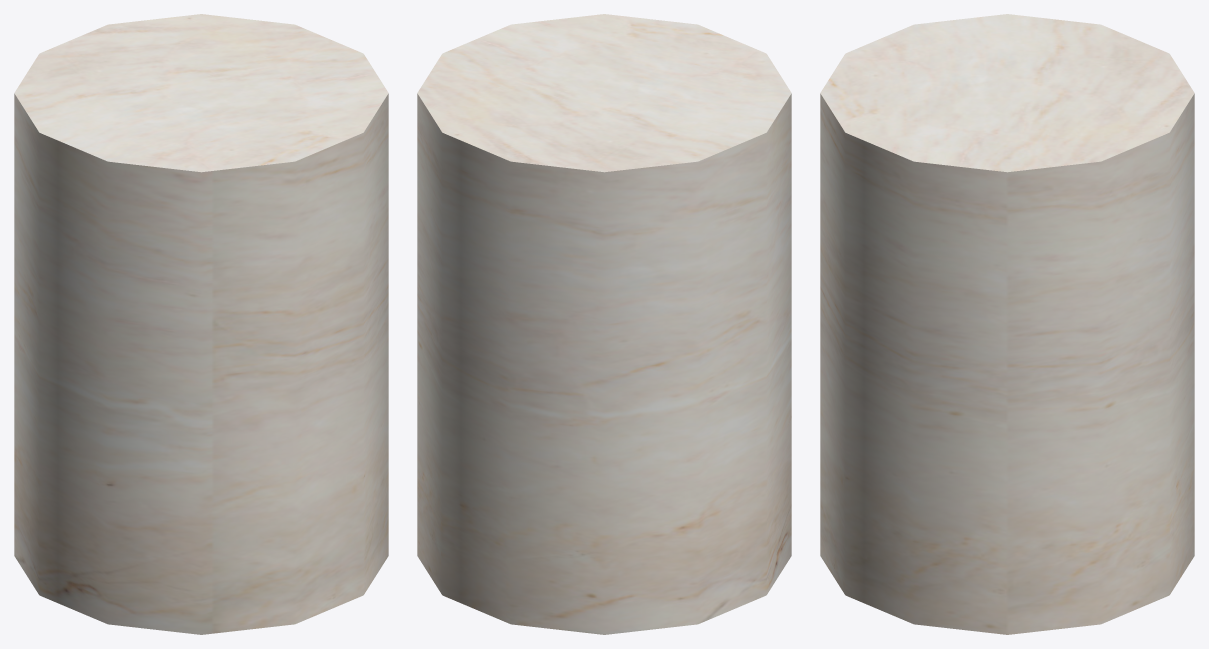
File: PIL0110002.FBX
3 renders of one model, left to right at view 1: azimuth 30°, elevation 25°; view 2: azimuth 150°, elevation 25°; view 3: azimuth 270°, elevation 25°, orthographic.
Visible parts, largest first — view 1: smPIL0110002; view 2: smPIL0110002; view 3: smPIL0110002.
Boxes of the visible parts, x1,y1,x2,y2 form: smPIL0110002: [14, 14, 388, 634]; smPIL0110002: [417, 14, 791, 634]; smPIL0110002: [820, 14, 1194, 634].
Bounding box in the file's own units: 0.6275 × 0.8557 × 0.6275.
Materials: 1 (1 with a texture image).
